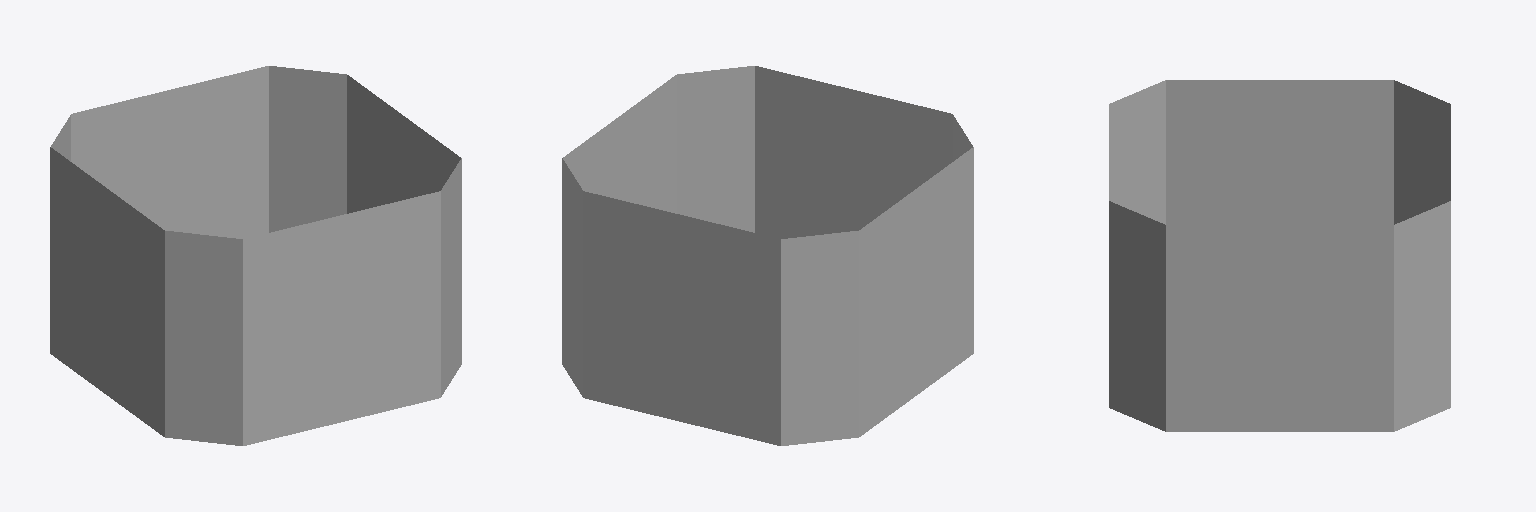
The model's file is VerticleShaft.mtl.obj.
3 views of the same model, side by side, from view 1: azimuth 30°, elevation 25°; view 2: azimuth 150°, elevation 25°; view 3: azimuth 270°, elevation 25° (orthographic).
Parts seen in each view (by area): view 1: VerticleShaft_Plane.001; view 2: VerticleShaft_Plane.001; view 3: VerticleShaft_Plane.001.
Boxes of the visible parts, x1=… form: VerticleShaft_Plane.001: x1=50, y1=66, x2=461, y2=445; VerticleShaft_Plane.001: x1=562, y1=66, x2=973, y2=445; VerticleShaft_Plane.001: x1=1109, y1=80, x2=1450, y2=431.
Size of the model in its own units: 6 by 4 by 6.